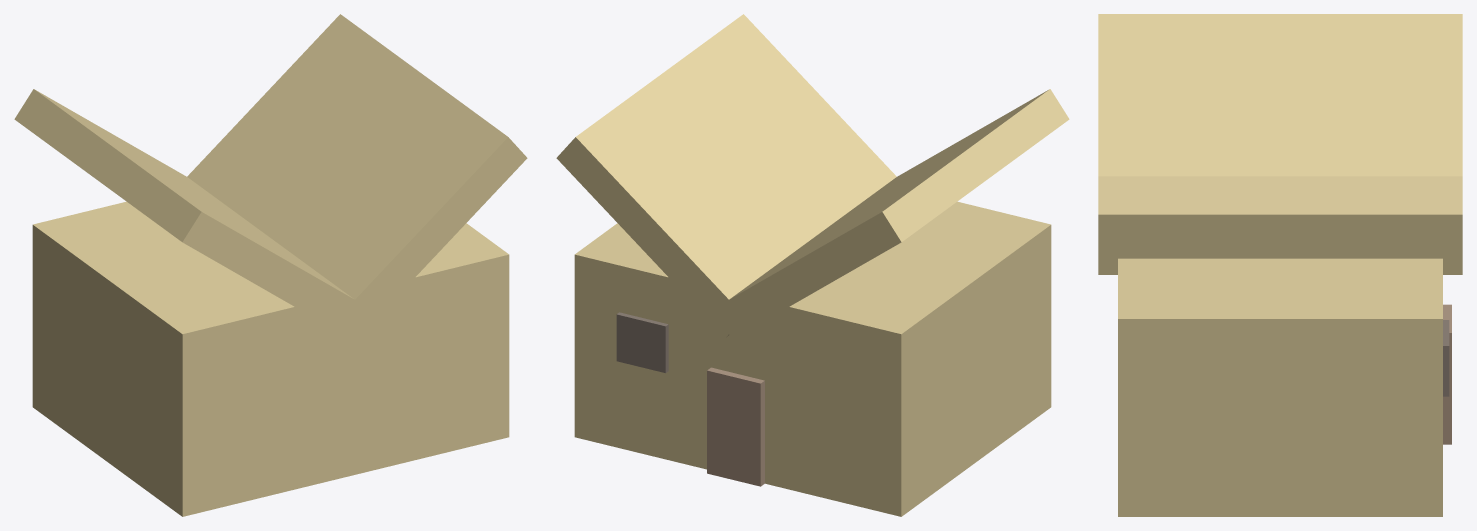
The picture shows the model from 3 angles, left to right: view 1: azimuth 30°, elevation 25°; view 2: azimuth 150°, elevation 25°; view 3: azimuth 270°, elevation 25°; orthographic projection. The views are drawn at different scales.
Parts seen in each view (by area): view 1: straw-walls, roof-right, roof-left; view 2: straw-walls, roof-right, roof-left, door, window; view 3: straw-walls, roof-left, roof-right, door, window.
Part boxes in pixels (x1,y1,x2,y2): straw-walls: (32,201,509,516); roof-right: (187,14,527,337); roof-left: (14,89,370,339); straw-walls: (574,201,1051,516); roof-right: (556,14,896,337); roof-left: (713,89,1069,339); door: (707,367,764,486); window: (616,312,668,373); straw-walls: (1118,258,1442,516); roof-left: (1098,14,1462,176); roof-right: (1098,176,1462,274); door: (1443,304,1451,444); window: (1443,320,1449,396).
Size of the model in its own units: 7.71 by 6.6 by 6.5.
